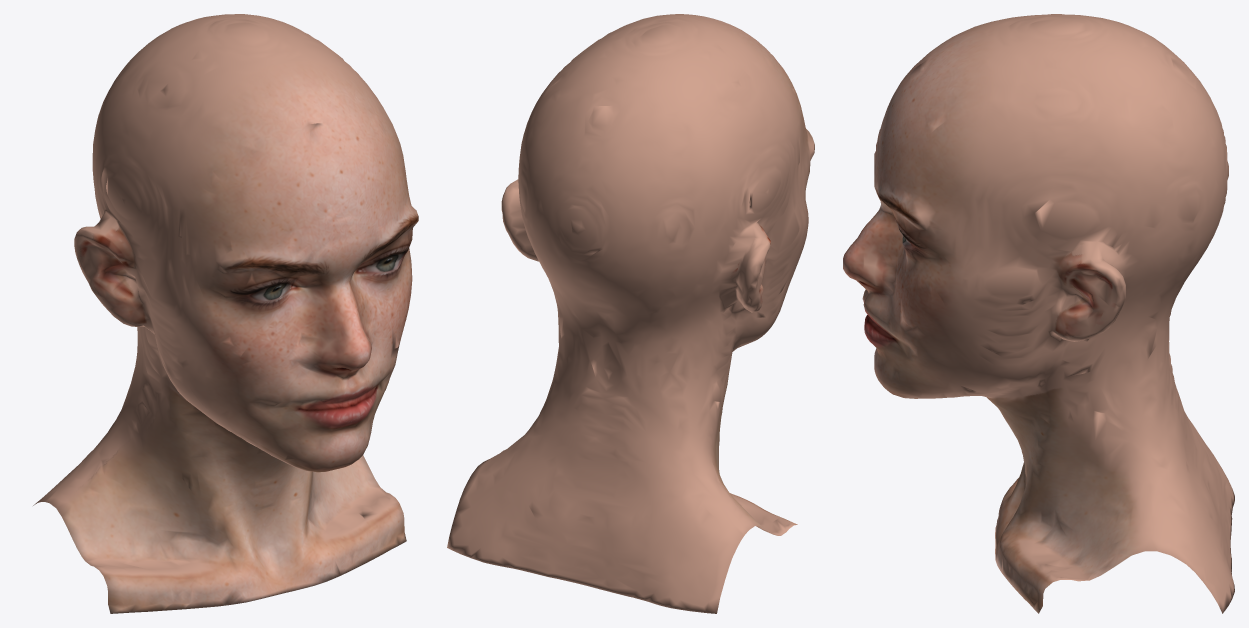
The model's file is maren-head-triposg-v1.glb.
3 views of the same model, side by side, from view 1: azimuth 30°, elevation 25°; view 2: azimuth 150°, elevation 25°; view 3: azimuth 270°, elevation 25° (orthographic). The views are drawn at different scales.
Parts seen in each view (by area): view 1: triposg-m1-12000; view 2: triposg-m1-12000; view 3: triposg-m1-12000.
Part boxes in pixels (<box>): triposg-m1-12000: <box>33,14,418,613</box>; triposg-m1-12000: <box>447,14,814,613</box>; triposg-m1-12000: <box>843,14,1234,613</box>.
Size of the model in its own units: 0.52 by 0.9006 by 0.6183.
1 material, 1 textured.
